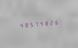eight: (22, 21, 26, 29), (42, 19, 46, 27)
five: (27, 21, 31, 28)
four: (17, 21, 21, 29), (37, 20, 41, 27)
seven: (32, 20, 36, 28)
six: (52, 18, 56, 26)
two: (47, 19, 51, 26)
